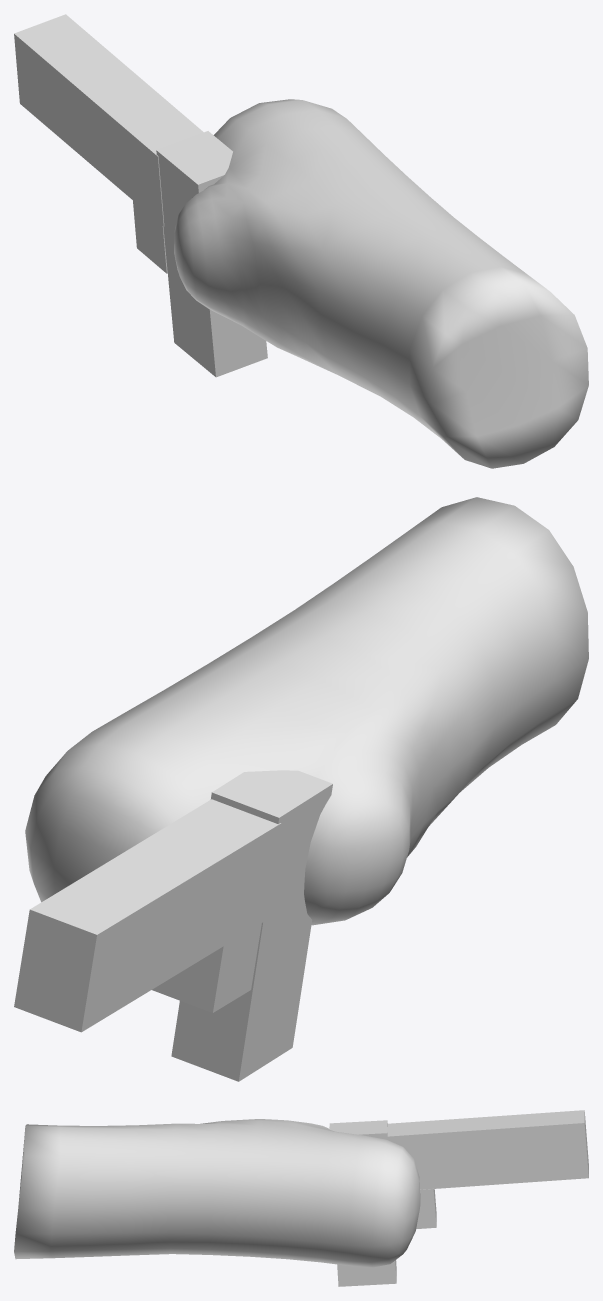
File: arm.obj
3 renders of one model, top to bottom at view 1: azimuth 30°, elevation 25°; view 2: azimuth 150°, elevation 25°; view 3: azimuth 270°, elevation 25°, orthographic. The views are drawn at different scales.
Parts seen in each view (by area): view 1: Vert; view 2: Vert; view 3: Vert.
Boxes of the visible parts, left/top/right/bottom form: Vert: left=14, top=14, right=588, bottom=468; Vert: left=14, top=497, right=588, bottom=1081; Vert: left=14, top=1110, right=588, bottom=1286.
Bounding box in the file's own units: 0.3497 × 0.3455 × 1.08.
Materials: 1 (1 with a texture image).
